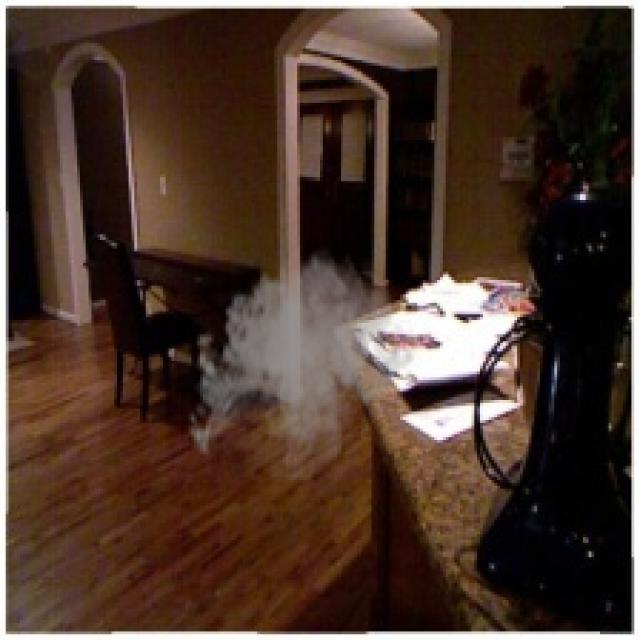smoke: (183, 246, 417, 488)
